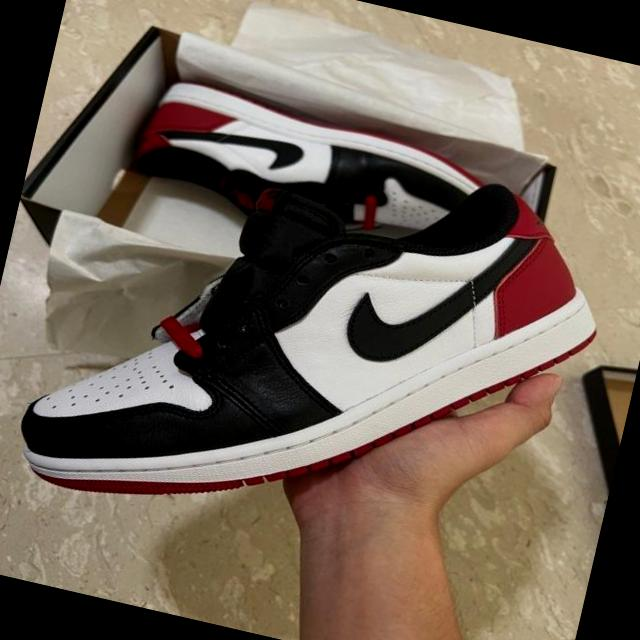nike_original_jordan: (0, 91, 626, 600)
